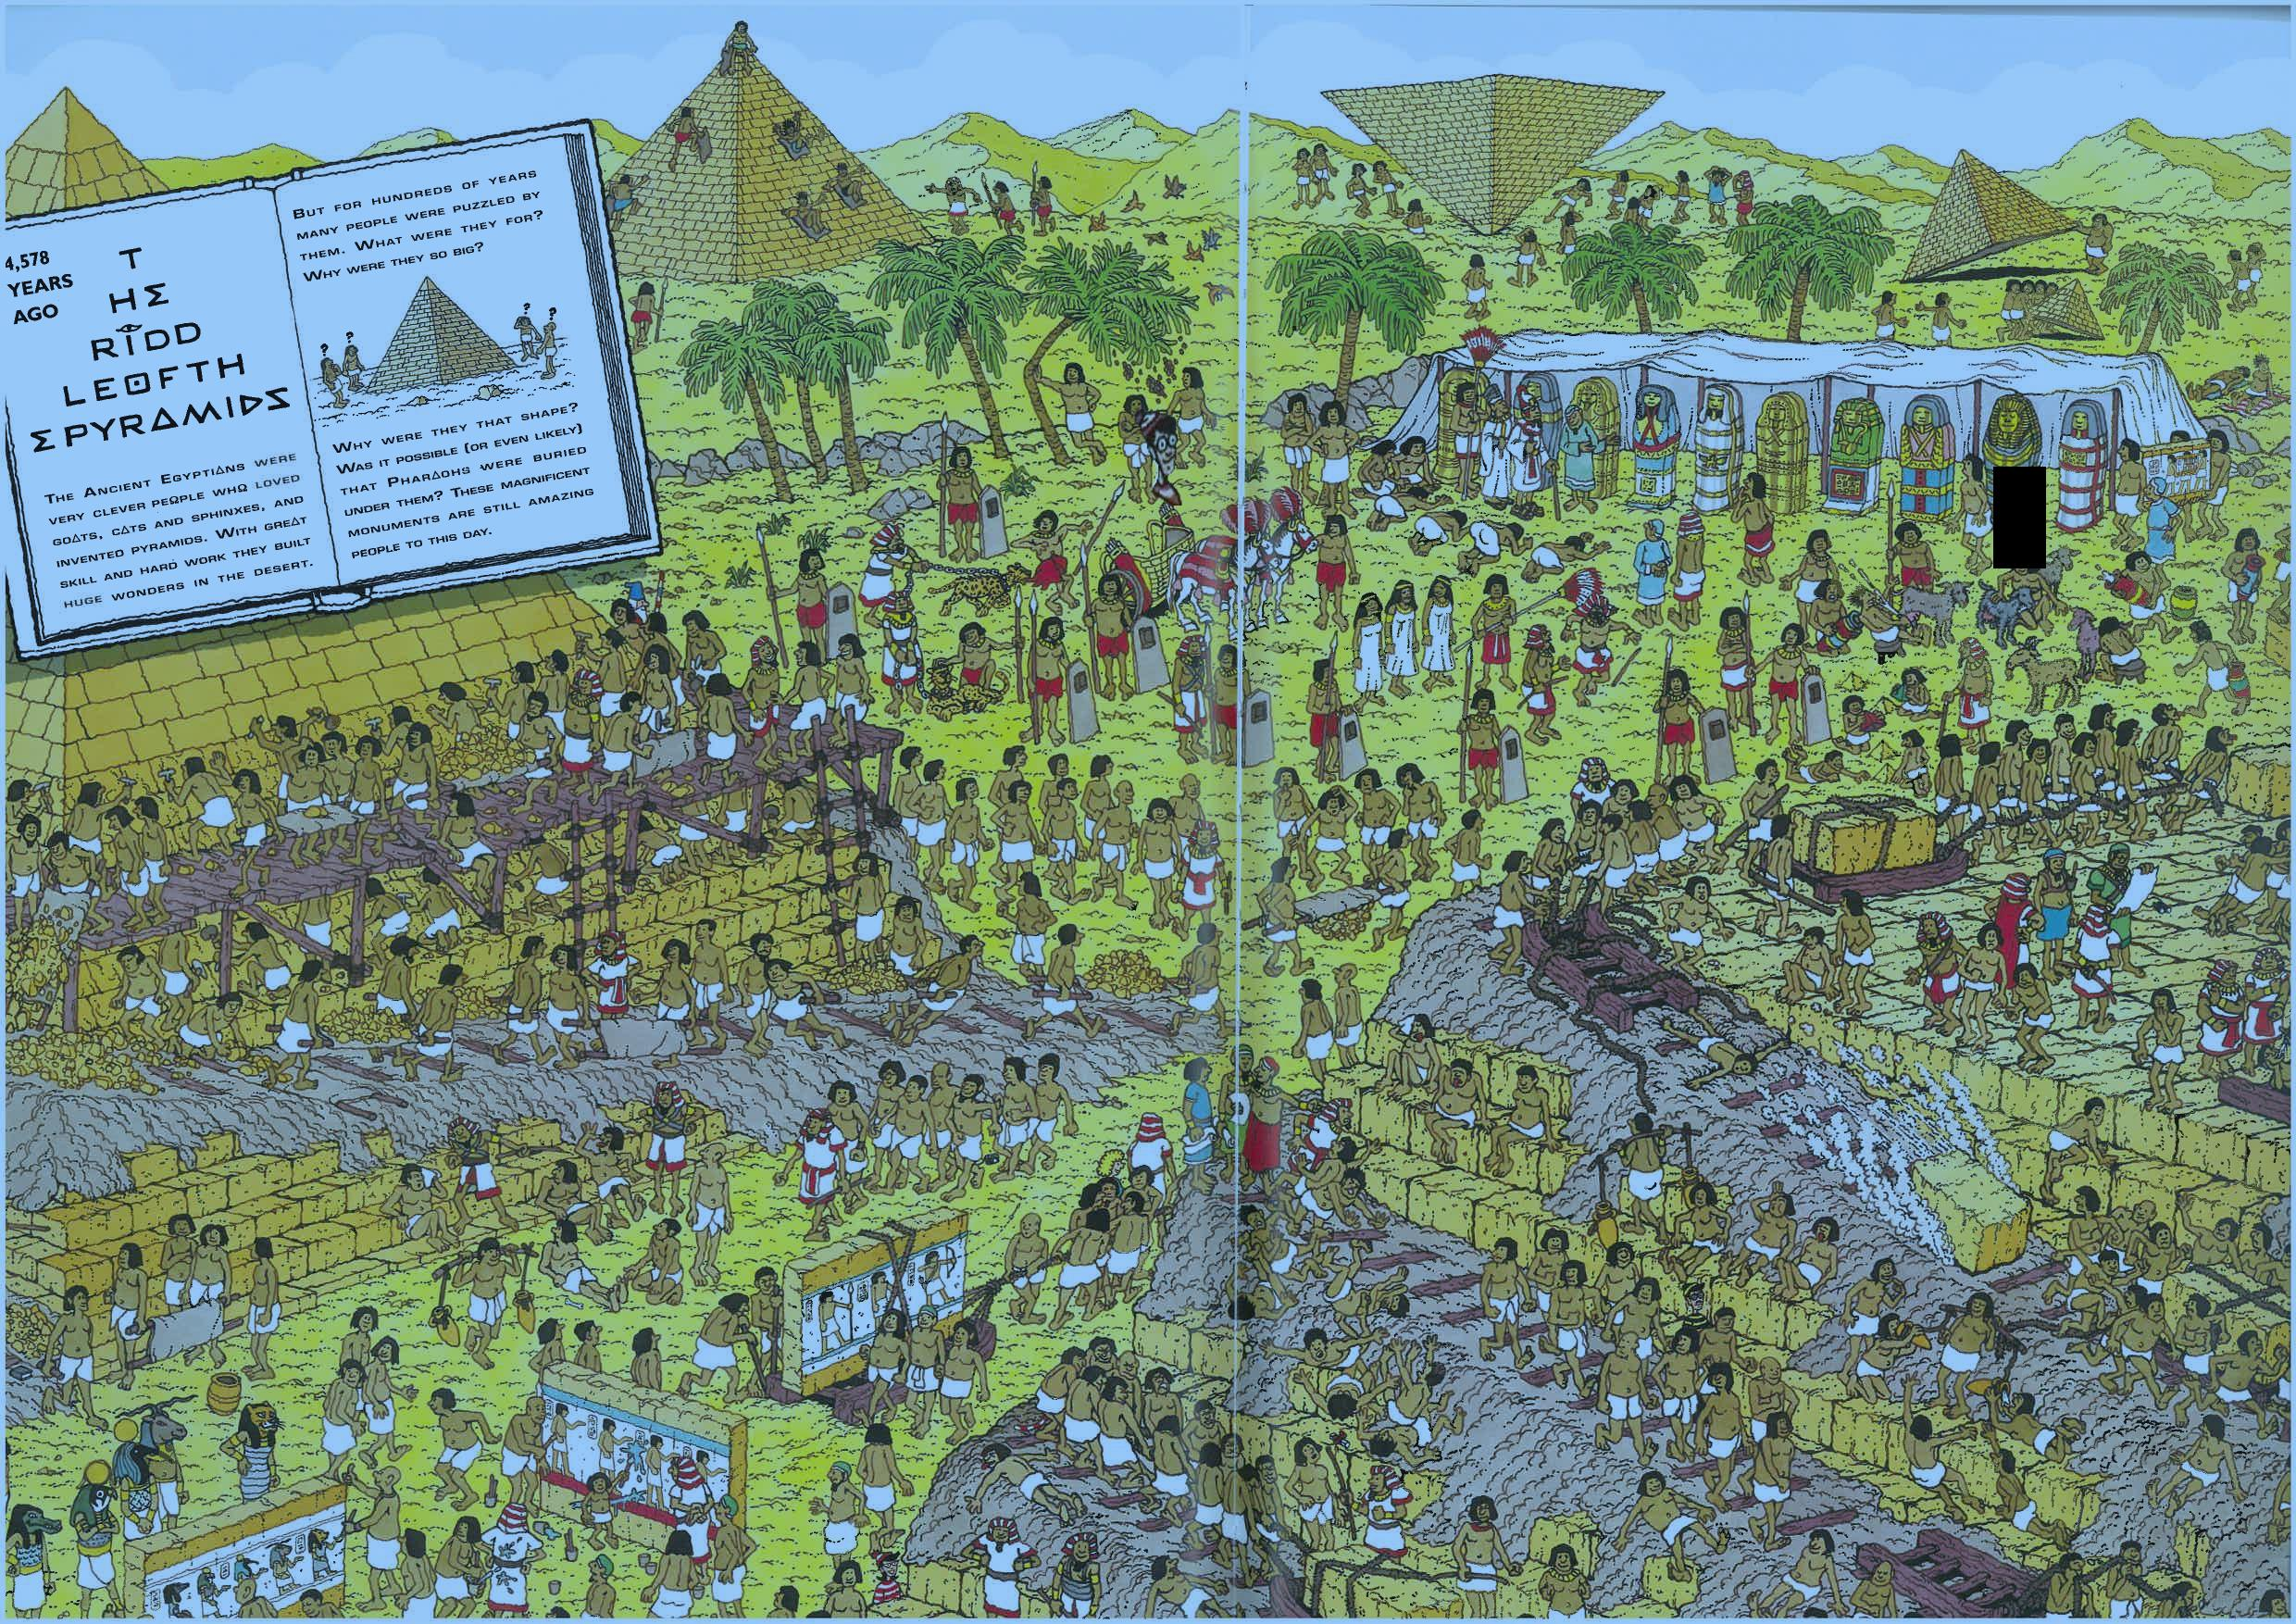waldos: (1130, 404, 1184, 506)
